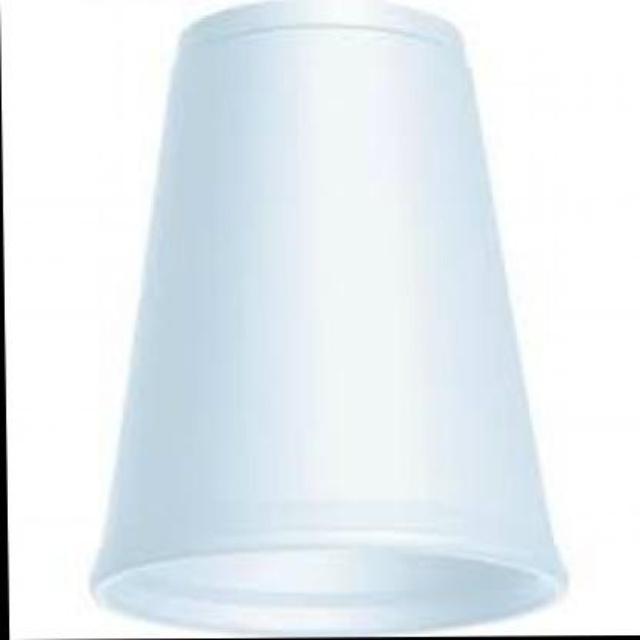trash: (97, 0, 560, 632)
